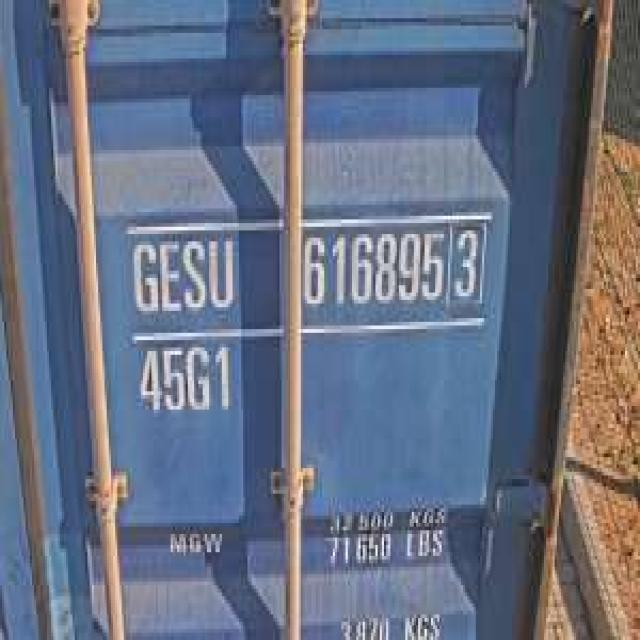dv: (448, 212, 489, 307)
owner: (126, 230, 243, 322)
serial: (297, 220, 446, 314)
size: (130, 333, 237, 417)
